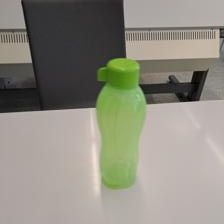bottle: (96, 60, 150, 187)
